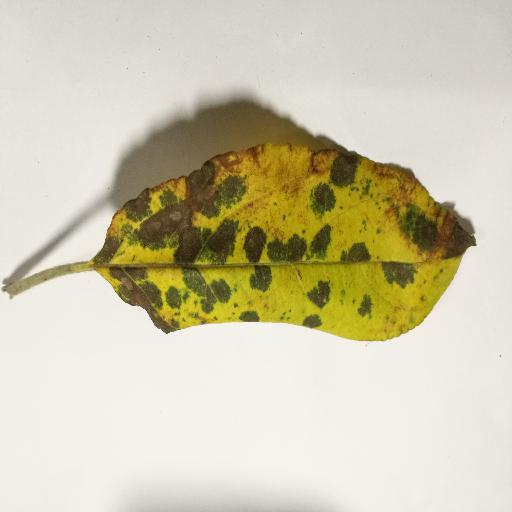Brown_Spot: (112, 183, 256, 260), (95, 271, 202, 343), (289, 132, 412, 191), (397, 203, 487, 256)
